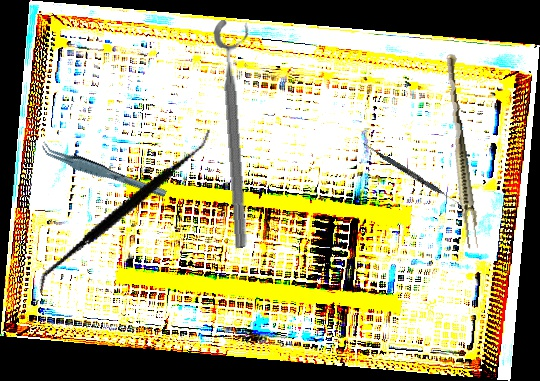Fixation Ring: (212, 18, 266, 249)
Spatula Surgical: (36, 95, 215, 328), (360, 142, 466, 208)
Tissue Forceps: (38, 130, 168, 212), (438, 53, 484, 250)
